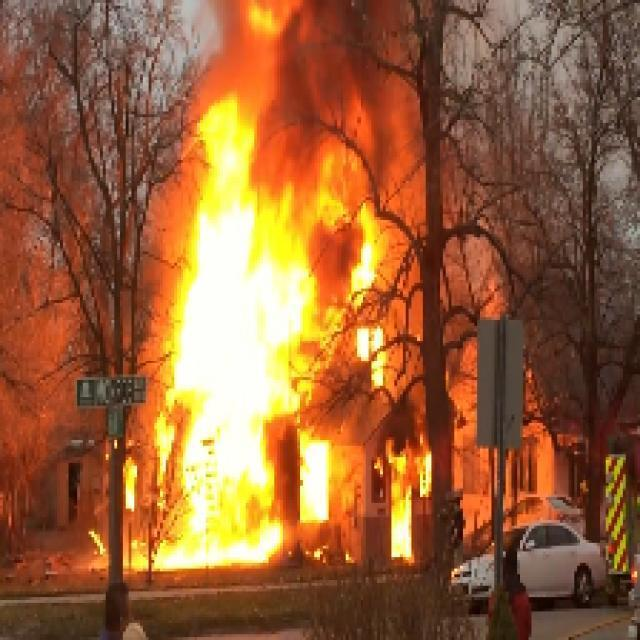Fire: (145, 121, 354, 556)
